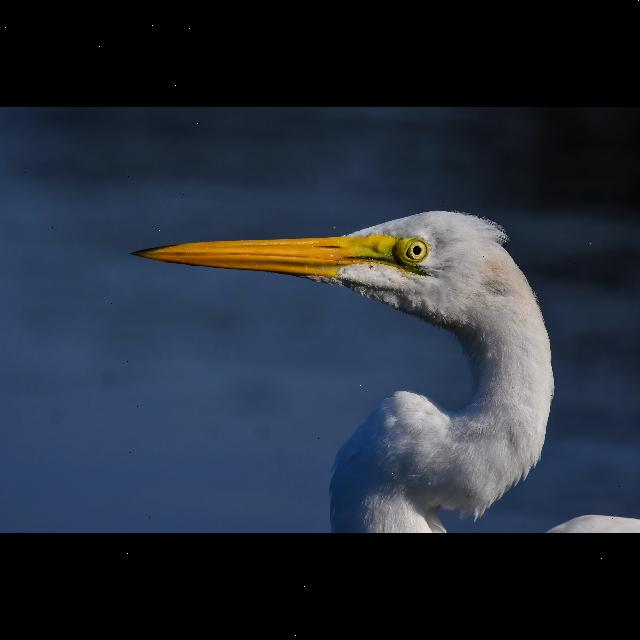egret: (122, 211, 640, 533)
